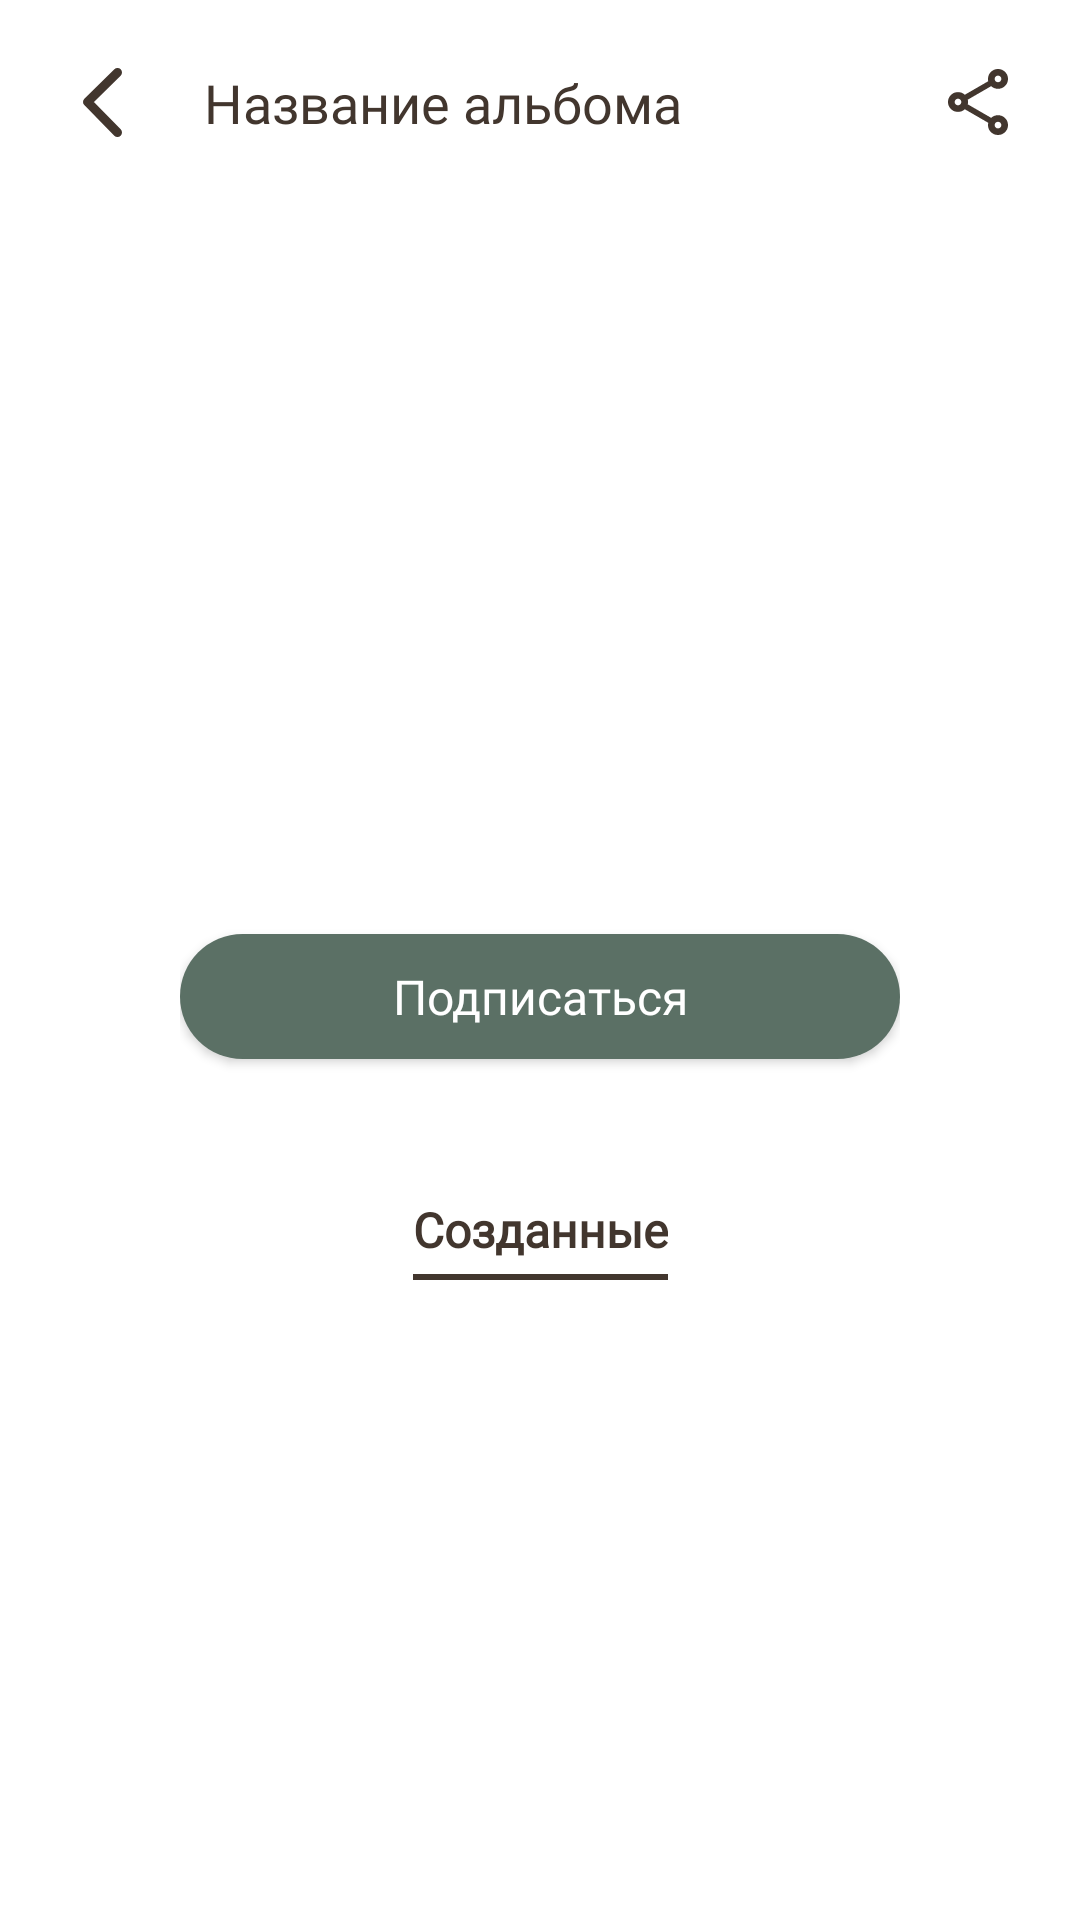

Locate icon controls on the screen. Image size 1080*1920, boxes as rect(x1, y1, x2, y2).
arrow back: rect(83, 68, 122, 137)
share: rect(948, 69, 1008, 135)
